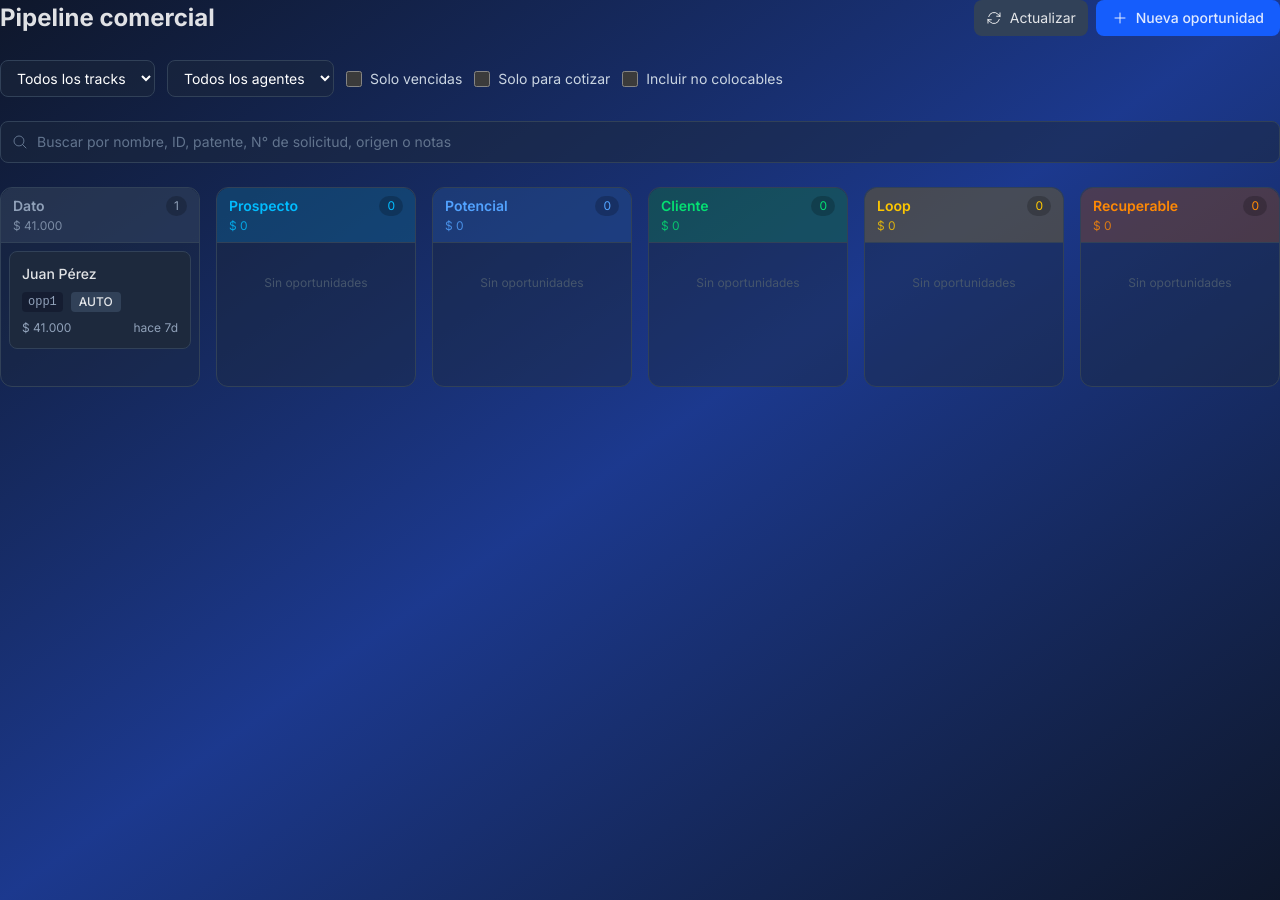
Scenario: el motivo es obligatorio (C-6l punto 2) › con motivo "Otro" el detalle también es obligatorio
Click the text "Juan Pérez" at (59, 274), box [22, 264, 97, 284]
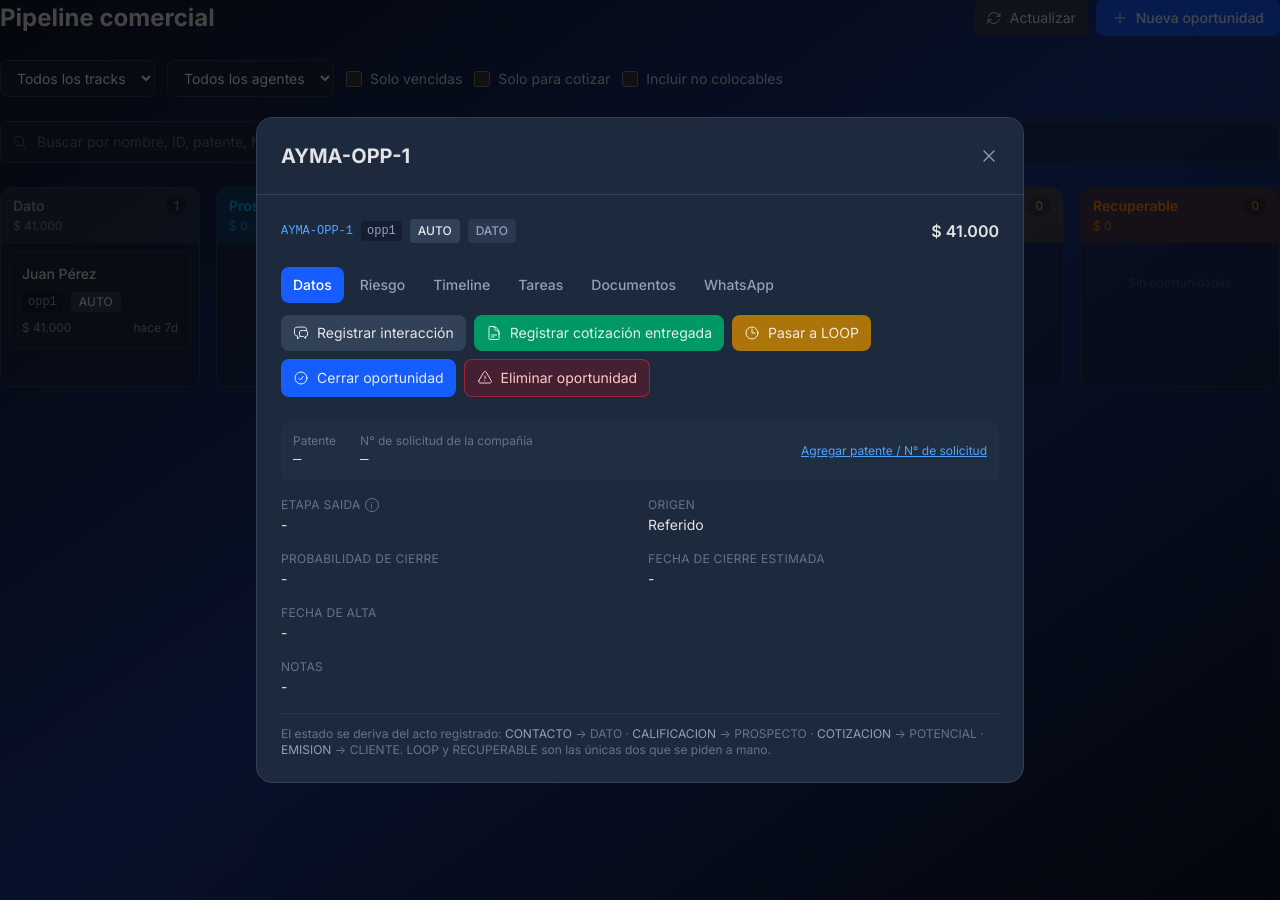
Click the button "Eliminar oportunidad" at (557, 378), box [464, 359, 650, 397]
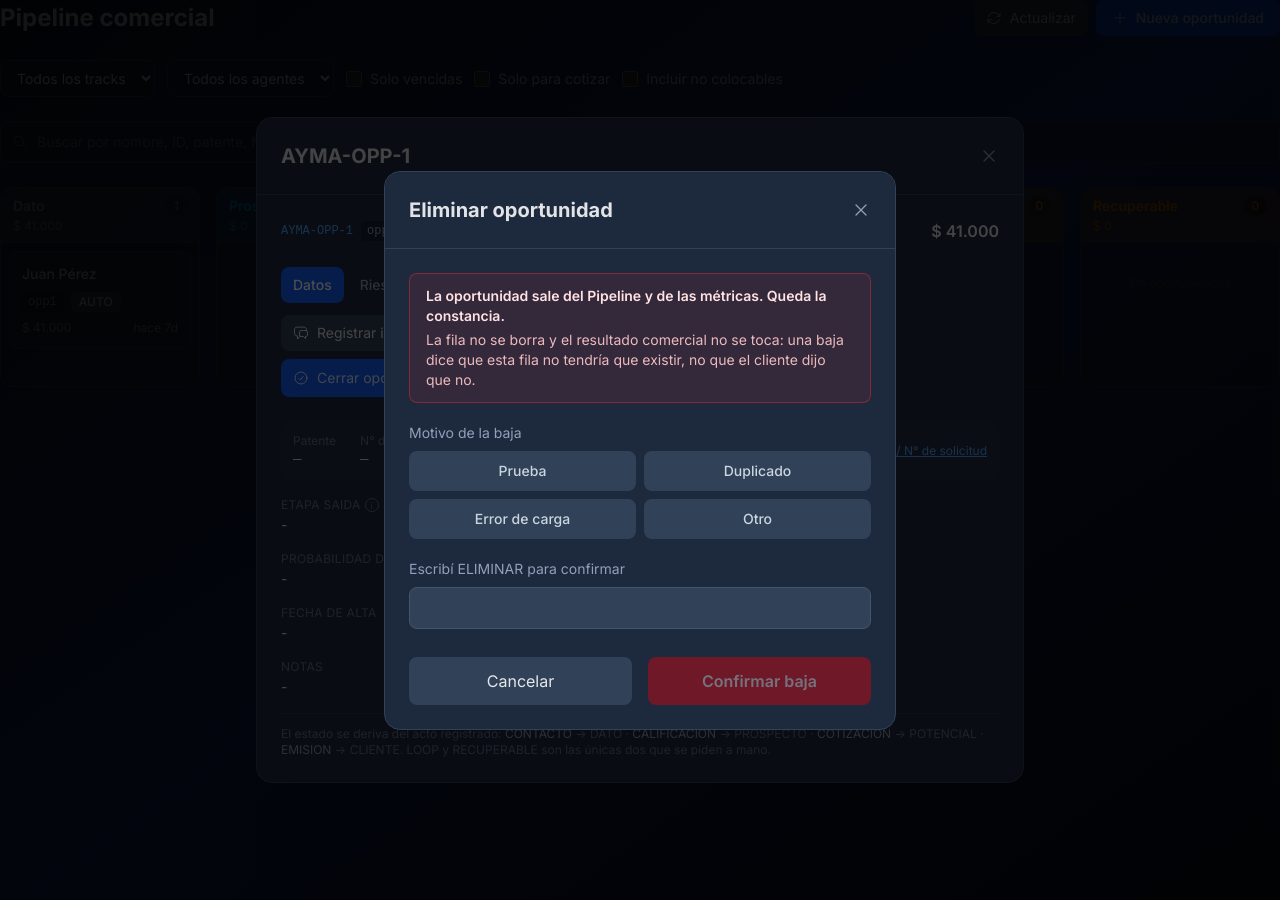
Click the button "Otro" at (758, 518), box [644, 498, 871, 538]
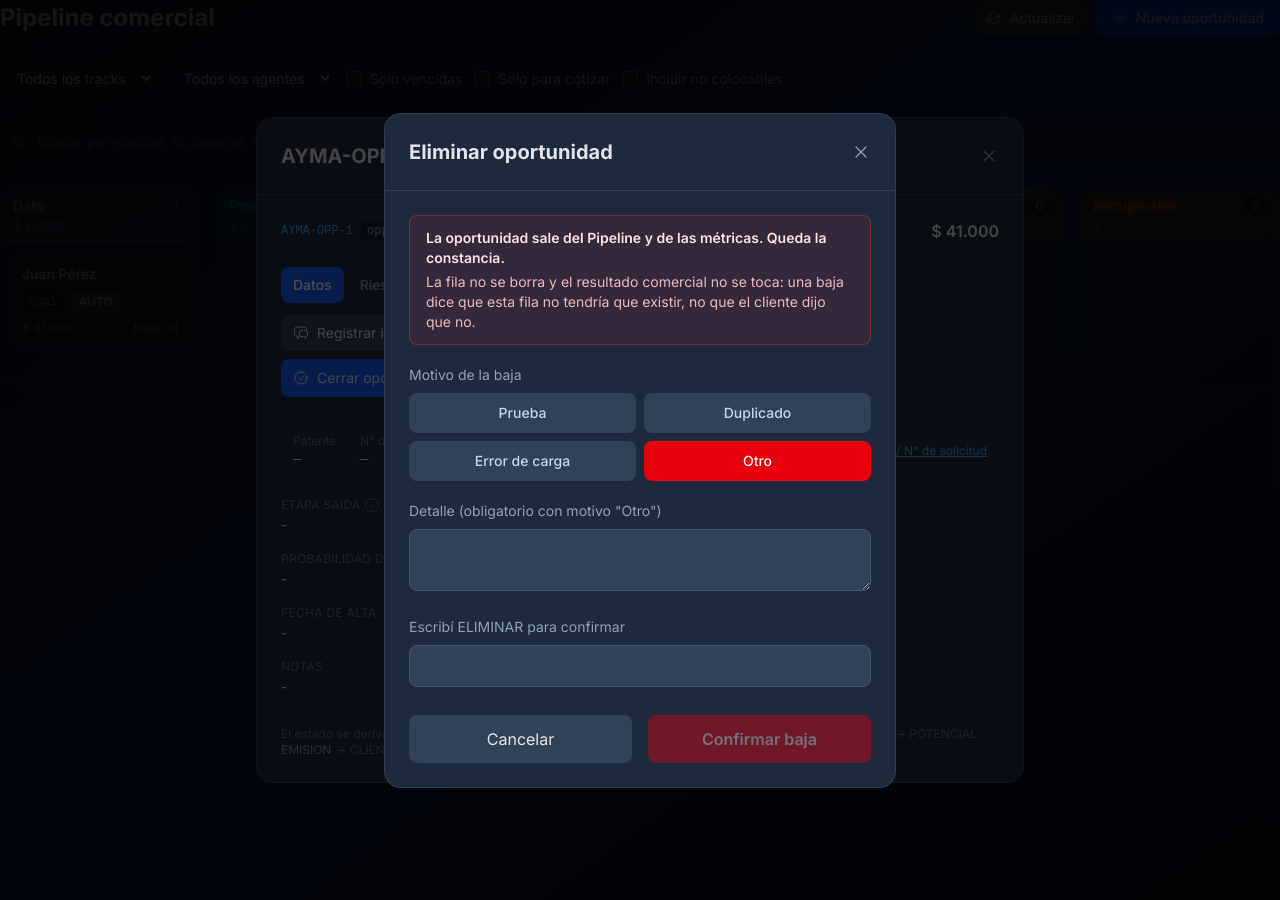
Type "ELIMINAR" into the field labelled "Escribí ELIMINAR para confirmar" at (640, 666), box [409, 644, 871, 686]
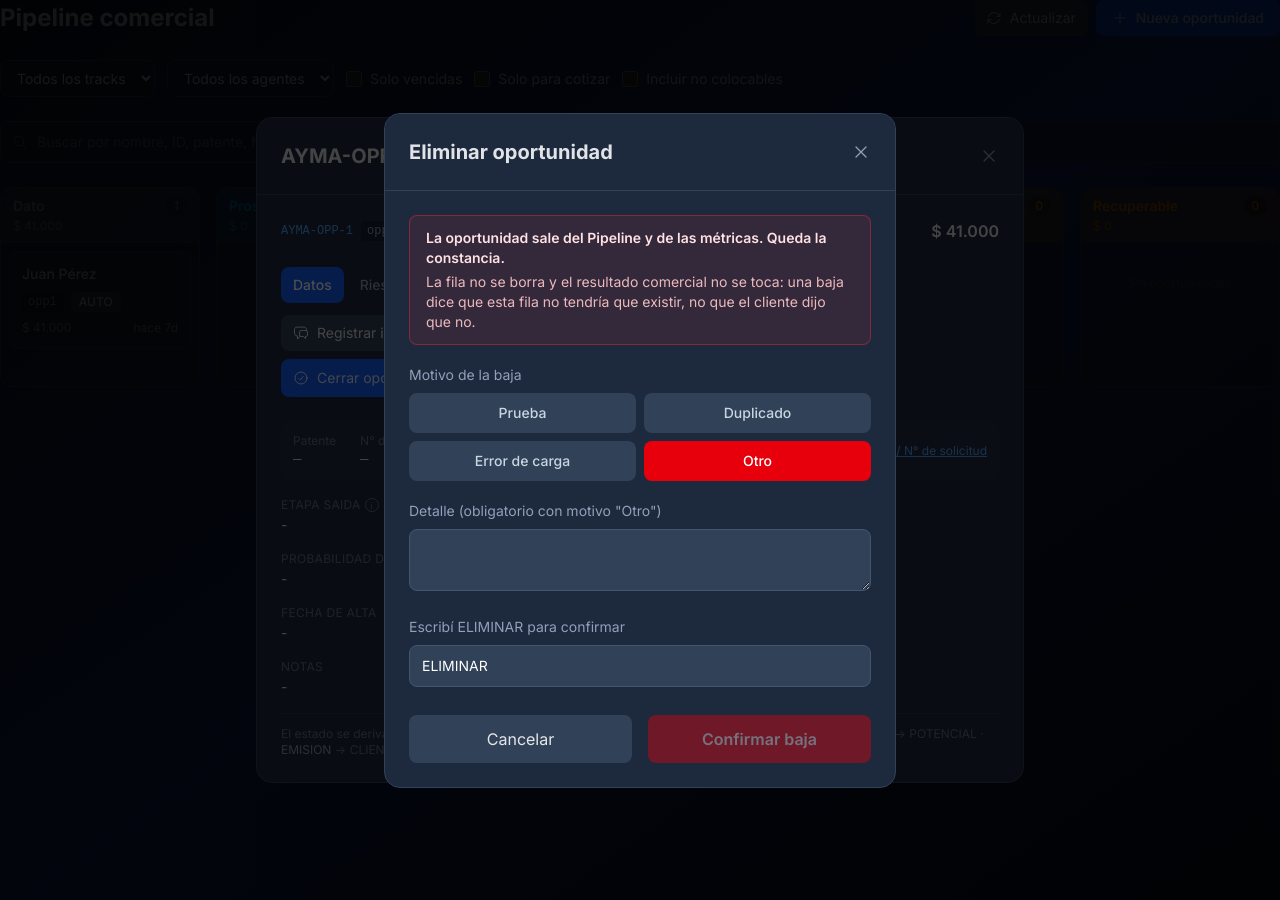
Expected: the button "Confirmar baja" is disabled, [648, 714, 871, 762]
Type "pedido del titular" into the text box labelled "Detalle (obligatorio con motivo \"Otro\")" at (640, 560), box [409, 528, 871, 590]
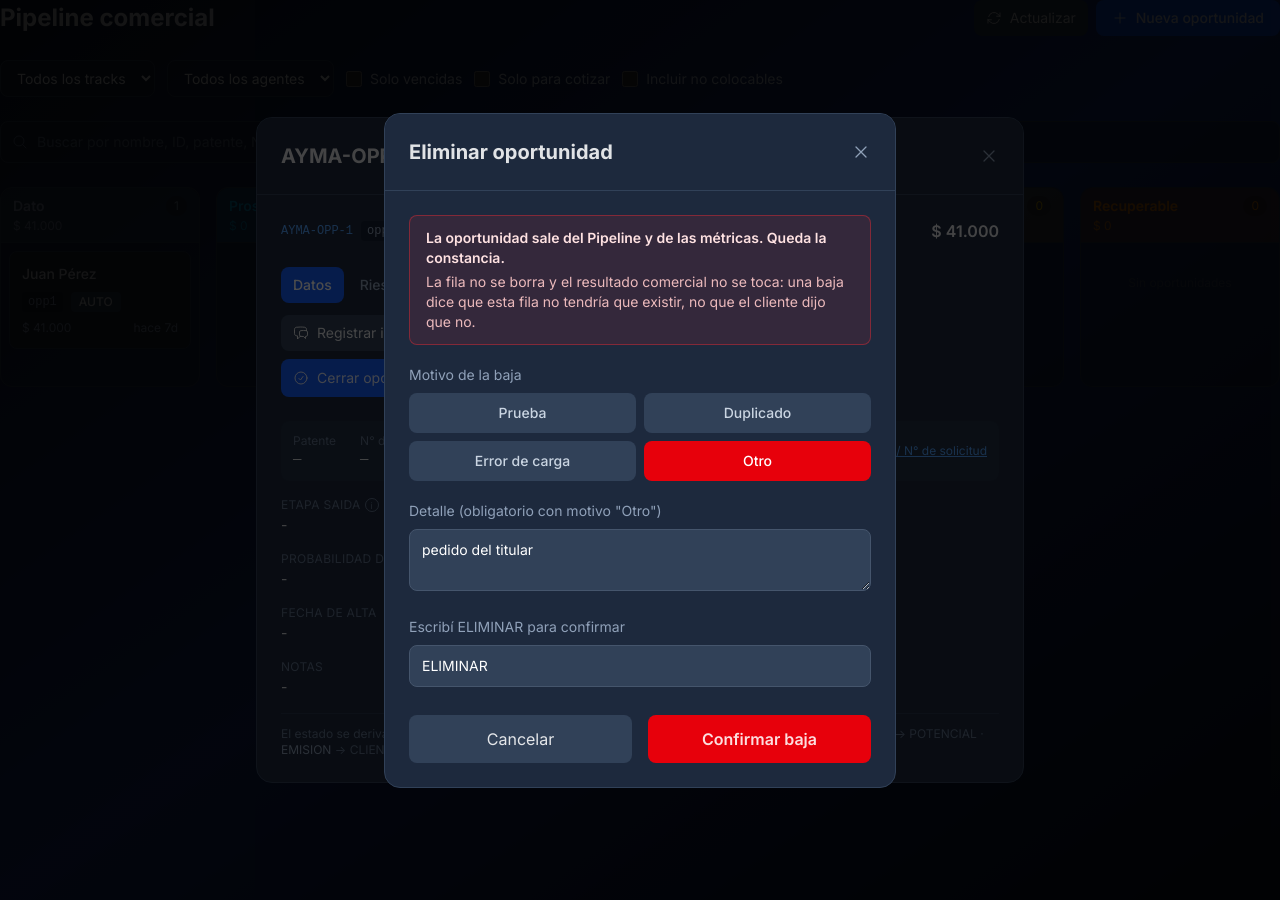
Expected: the button "Confirmar baja" is enabled, [648, 714, 871, 762]
